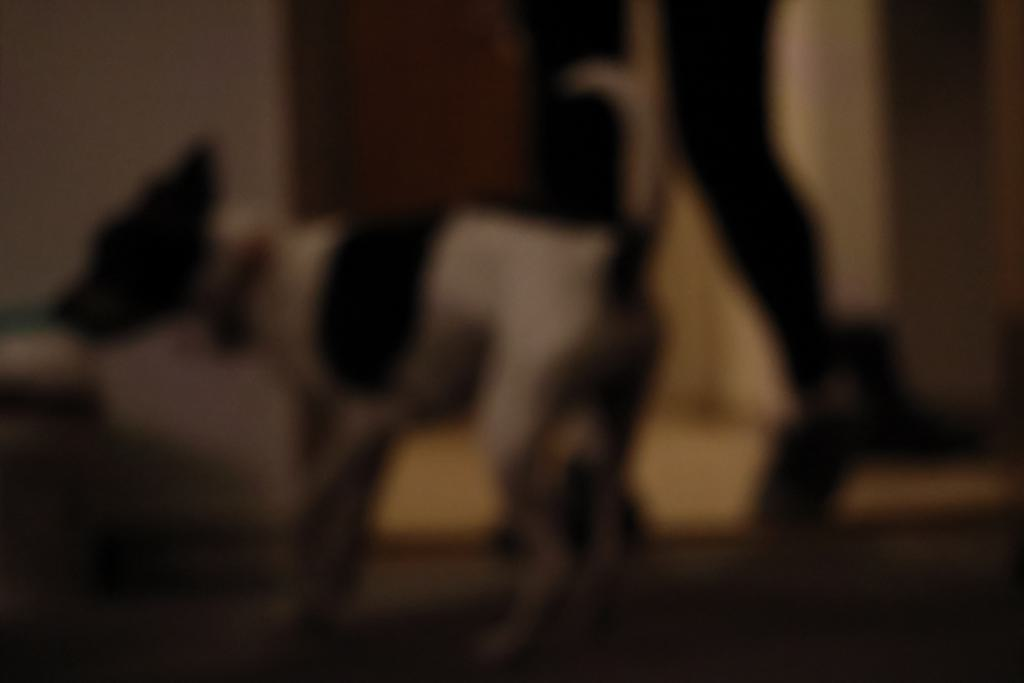Dog: (28, 49, 685, 683)
Humanoid: (484, 0, 917, 570)
